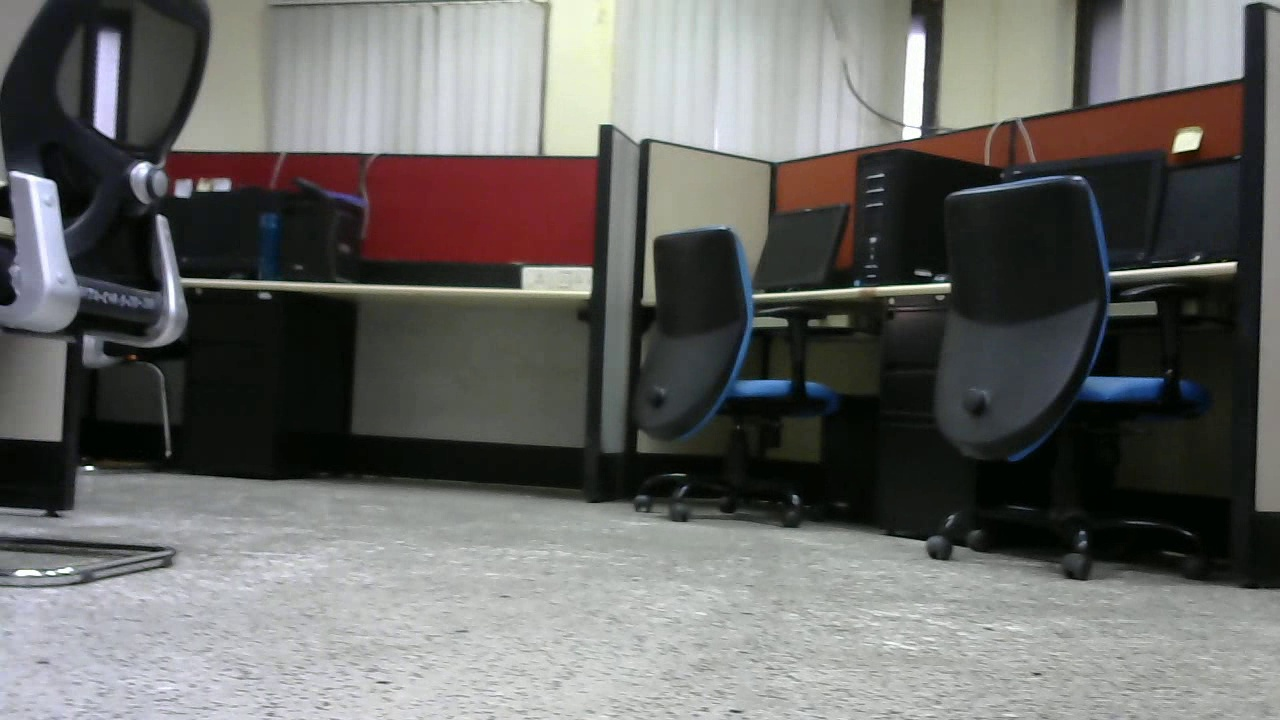chair: (929, 186, 1211, 578), (639, 219, 843, 534)
